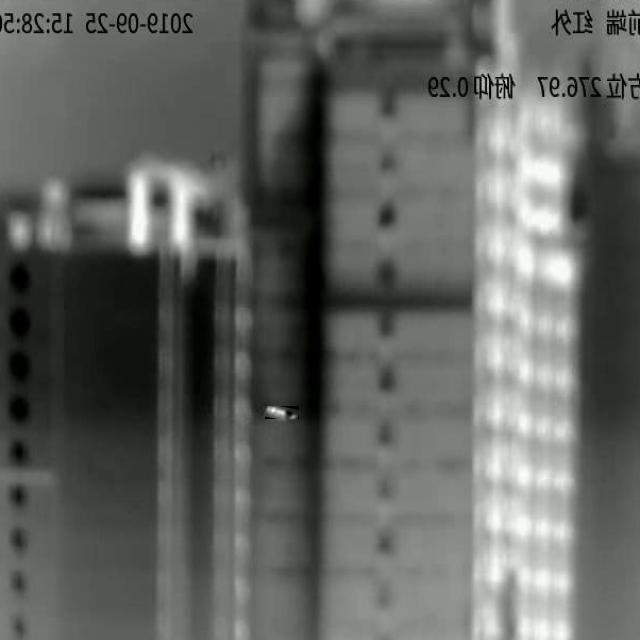drone: (265, 406, 298, 419)
